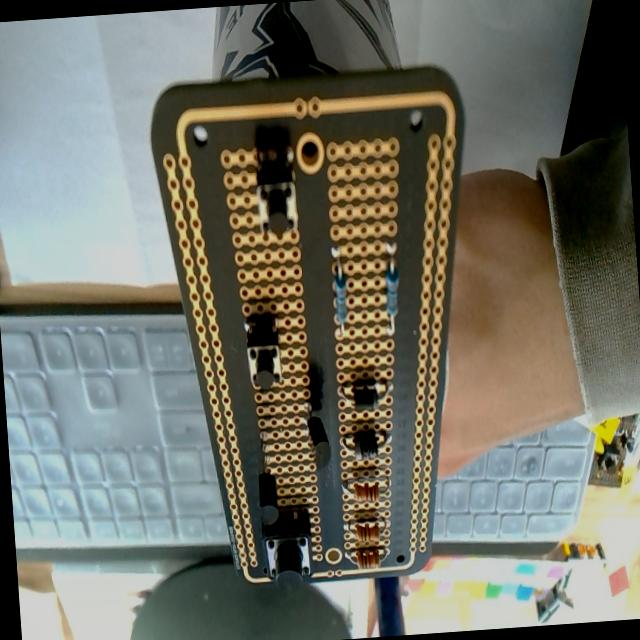diode: (338, 378, 393, 413), (340, 428, 390, 462)
resistor: (379, 238, 403, 336), (329, 244, 351, 338), (347, 544, 388, 568), (347, 515, 385, 540), (353, 480, 379, 504)
switch: (252, 143, 300, 240), (260, 507, 314, 590), (242, 312, 284, 394)
transistor: (253, 434, 280, 526), (305, 410, 333, 470)
